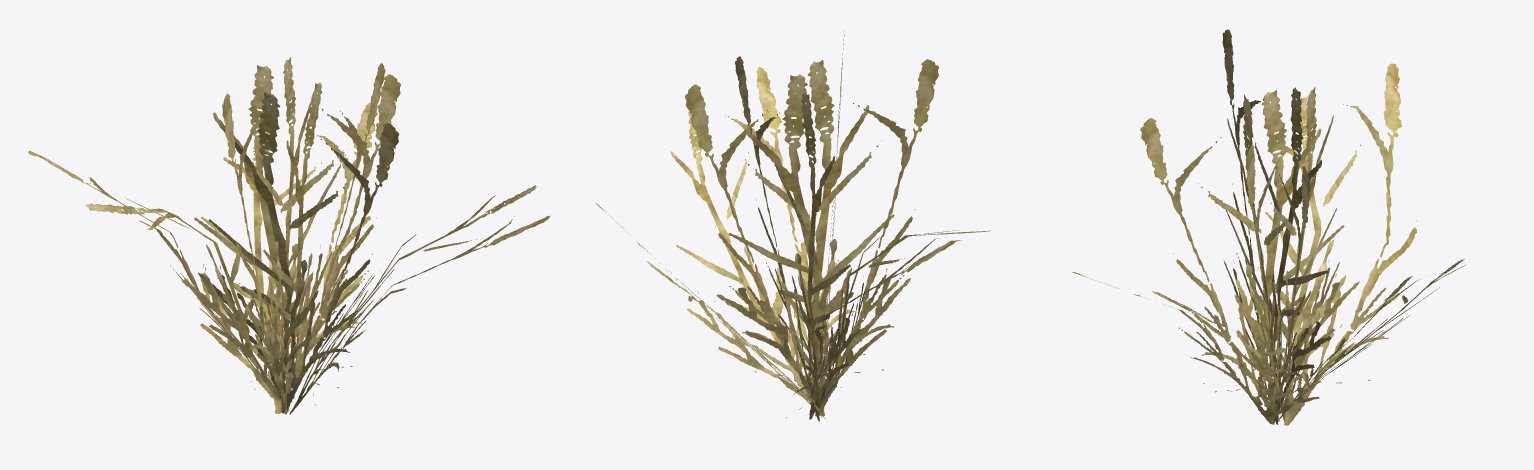
File: Foliage_Grass_M5_03.glb
The picture shows the model from 3 angles, left to right: view 1: azimuth 30°, elevation 25°; view 2: azimuth 150°, elevation 25°; view 3: azimuth 270°, elevation 25°; orthographic projection.
Parts seen in each view (by area): view 1: FOLIAGE_GRASS_M5_03; view 2: FOLIAGE_GRASS_M5_03; view 3: FOLIAGE_GRASS_M5_03.
Boxes of the visible parts, box(x1,y1,x2,y2) form: FOLIAGE_GRASS_M5_03: box(28, 57, 550, 414); FOLIAGE_GRASS_M5_03: box(596, 30, 990, 421); FOLIAGE_GRASS_M5_03: box(1072, 29, 1466, 425).
Size of the model in its own units: 0.53 by 0.44 by 0.502.
Materials: 1 (1 with a texture image).
